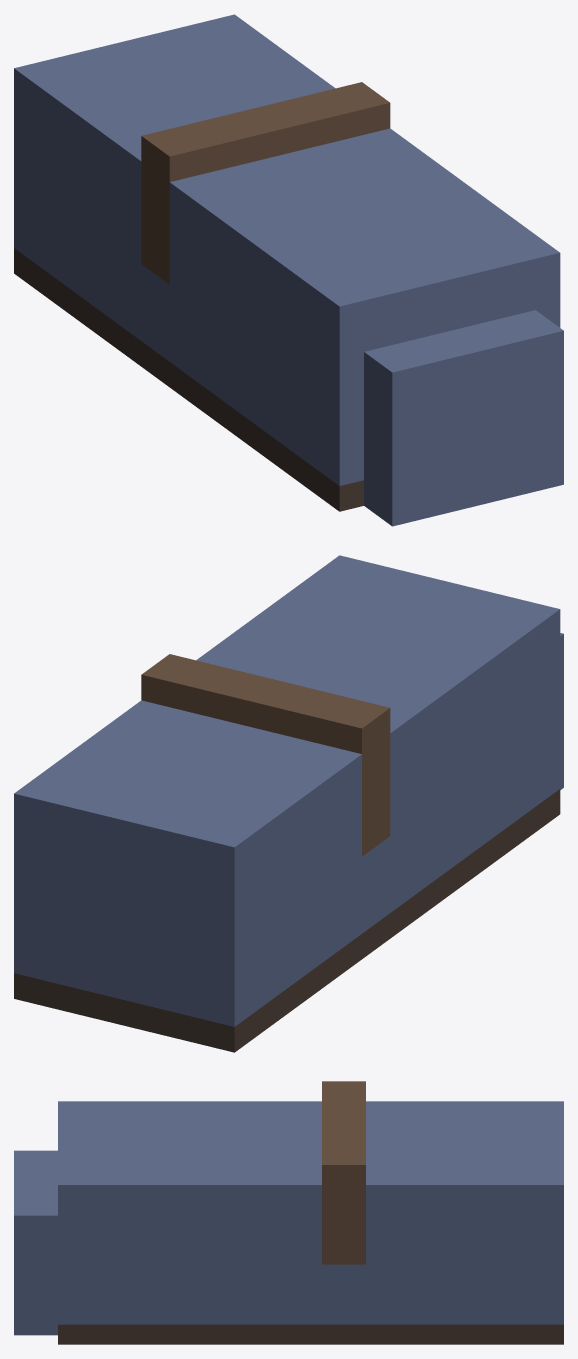
File: cloth_rare_boot_foot_L.glb
The picture shows the model from 3 angles, top to bottom: view 1: azimuth 30°, elevation 25°; view 2: azimuth 150°, elevation 25°; view 3: azimuth 270°, elevation 25°; orthographic projection. The views are drawn at different scales.
Parts seen in each view (by area): view 1: cloth_rare_boot_foot_L; view 2: cloth_rare_boot_foot_L; view 3: cloth_rare_boot_foot_L.
Boxes of the visible parts, x1=… form: cloth_rare_boot_foot_L: x1=14, y1=14, x2=563, y2=526; cloth_rare_boot_foot_L: x1=14, y1=555, x2=563, y2=1052; cloth_rare_boot_foot_L: x1=14, y1=1081, x2=563, y2=1344.
Bounding box in the file's own units: 0.108 × 0.108 × 0.3.
